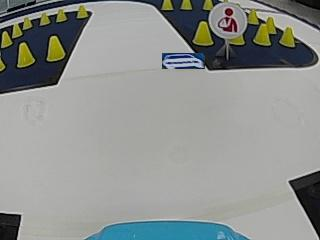cone: (192, 21, 214, 46), (46, 35, 65, 61), (16, 42, 35, 67), (280, 26, 296, 48), (254, 24, 270, 45), (1, 30, 13, 47), (247, 8, 258, 24), (55, 8, 67, 22), (76, 5, 88, 19), (12, 23, 23, 37), (160, 0, 173, 11), (39, 12, 50, 25), (22, 16, 32, 29), (180, 0, 192, 10), (202, 0, 213, 10)
patient: (215, 6, 245, 33)
